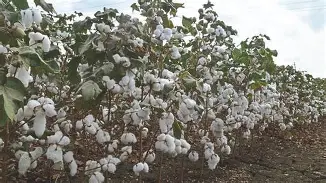crops: (0, 1, 318, 181)
